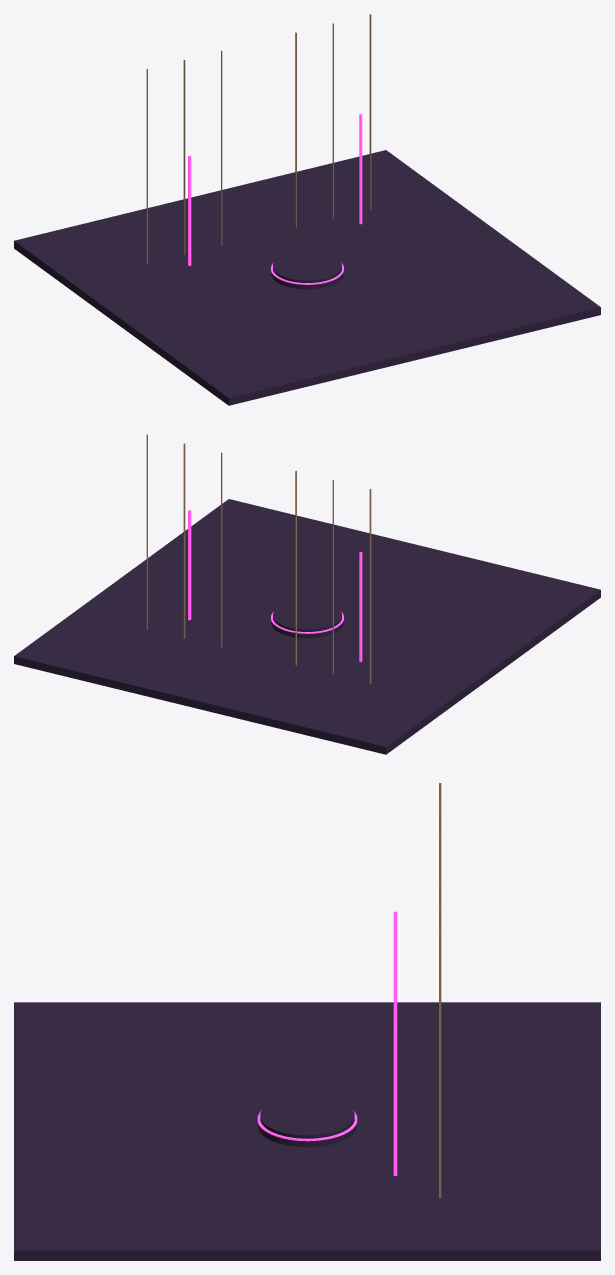
File: room.glb
3 views of the same model, one above another, from view 1: azimuth 30°, elevation 25°; view 2: azimuth 150°, elevation 25°; view 3: azimuth 270°, elevation 25° (orthographic). The views are drawn at different scales.
Parts seen in each view (by area): view 1: Floor, Cylinder.002, Vertical brass inlay.001, Vertical brass inlay.005; view 2: Floor, Cylinder.002, Vertical brass inlay, Vertical brass inlay.004, Light column.001, Light column; view 3: Floor, Cylinder.002, Vertical brass inlay.005, Light column.001, Cylinder.
Boxes of the visible parts, x1,y1,x2,y2 form: Floor: [14, 150, 600, 405]; Cylinder.002: [273, 251, 341, 282]; Vertical brass inlay.001: [183, 59, 185, 254]; Vertical brass inlay.005: [369, 14, 371, 209]; Floor: [14, 499, 600, 754]; Cylinder.002: [273, 600, 341, 631]; Vertical brass inlay: [369, 488, 371, 683]; Vertical brass inlay.004: [183, 443, 185, 638]; Light column.001: [188, 510, 191, 620]; Light column: [359, 552, 362, 661]; Floor: [14, 1002, 600, 1260]; Cylinder.002: [260, 1095, 354, 1138]; Vertical brass inlay.005: [439, 932, 441, 1198]; Light column.001: [393, 1025, 397, 1175]; Cylinder: [258, 1123, 356, 1147].
Bounding box in the file's own units: 10 × 5.25 × 10.
